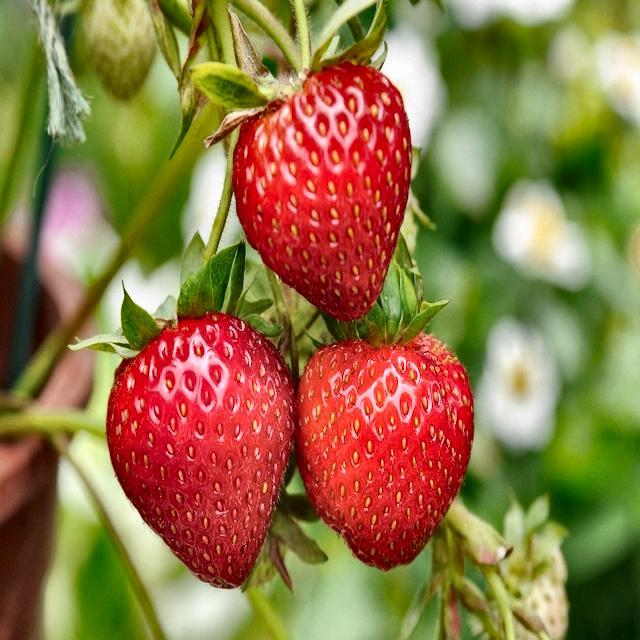strawberry: (106, 312, 294, 588), (232, 62, 411, 321), (296, 334, 474, 569)
